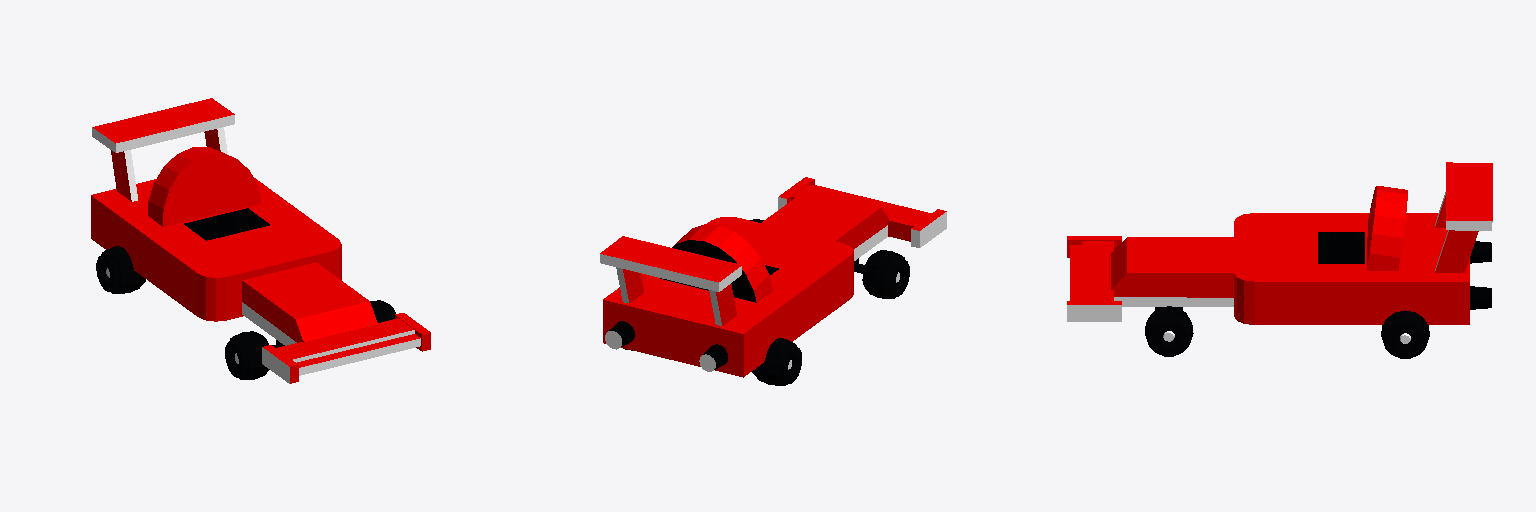
3 renders of one model, left to right at view 1: azimuth 30°, elevation 25°; view 2: azimuth 150°, elevation 25°; view 3: azimuth 270°, elevation 25°, orthographic.
Parts seen in each view (by area): view 1: pCube32, pasted__polySurface141 pasted__polySurface18 group3, pasted__pasted__polySurface141 pasted__pasted__polySurface18 pas; view 2: pCube32, pasted__polySurface141 pasted__polySurface18 group3, pasted__pasted__polySurface141 pasted__pasted__polySurface18 pas; view 3: pCube32, pasted__polySurface141 pasted__polySurface18 group3, pasted__pasted__polySurface141 pasted__pasted__polySurface18 pas.
Part boxes in pixels (x1,y1,x2,y2): pCube32: (91, 98, 430, 383); pasted__polySurface141 pasted__polySurface18 group3: (225, 300, 395, 379); pasted__pasted__polySurface141 pasted__pasted__polySurface18 pas: (96, 246, 145, 293); pCube32: (600, 177, 946, 377); pasted__polySurface141 pasted__polySurface18 group3: (750, 219, 909, 298); pasted__pasted__polySurface141 pasted__pasted__polySurface18 pas: (623, 338, 801, 385); pCube32: (1067, 162, 1492, 324); pasted__polySurface141 pasted__polySurface18 group3: (1145, 306, 1193, 356); pasted__pasted__polySurface141 pasted__pasted__polySurface18 pas: (1381, 310, 1429, 358).
Bounding box in the file's own units: 1.45 × 1.04 × 3.05.
1 materials, 1 textured.